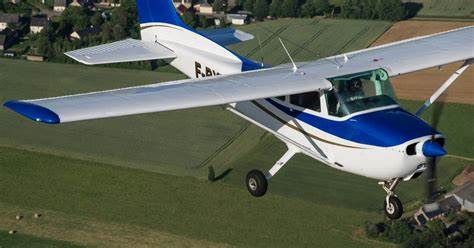Aeronef_de_loisir: (3, 1, 473, 226)
